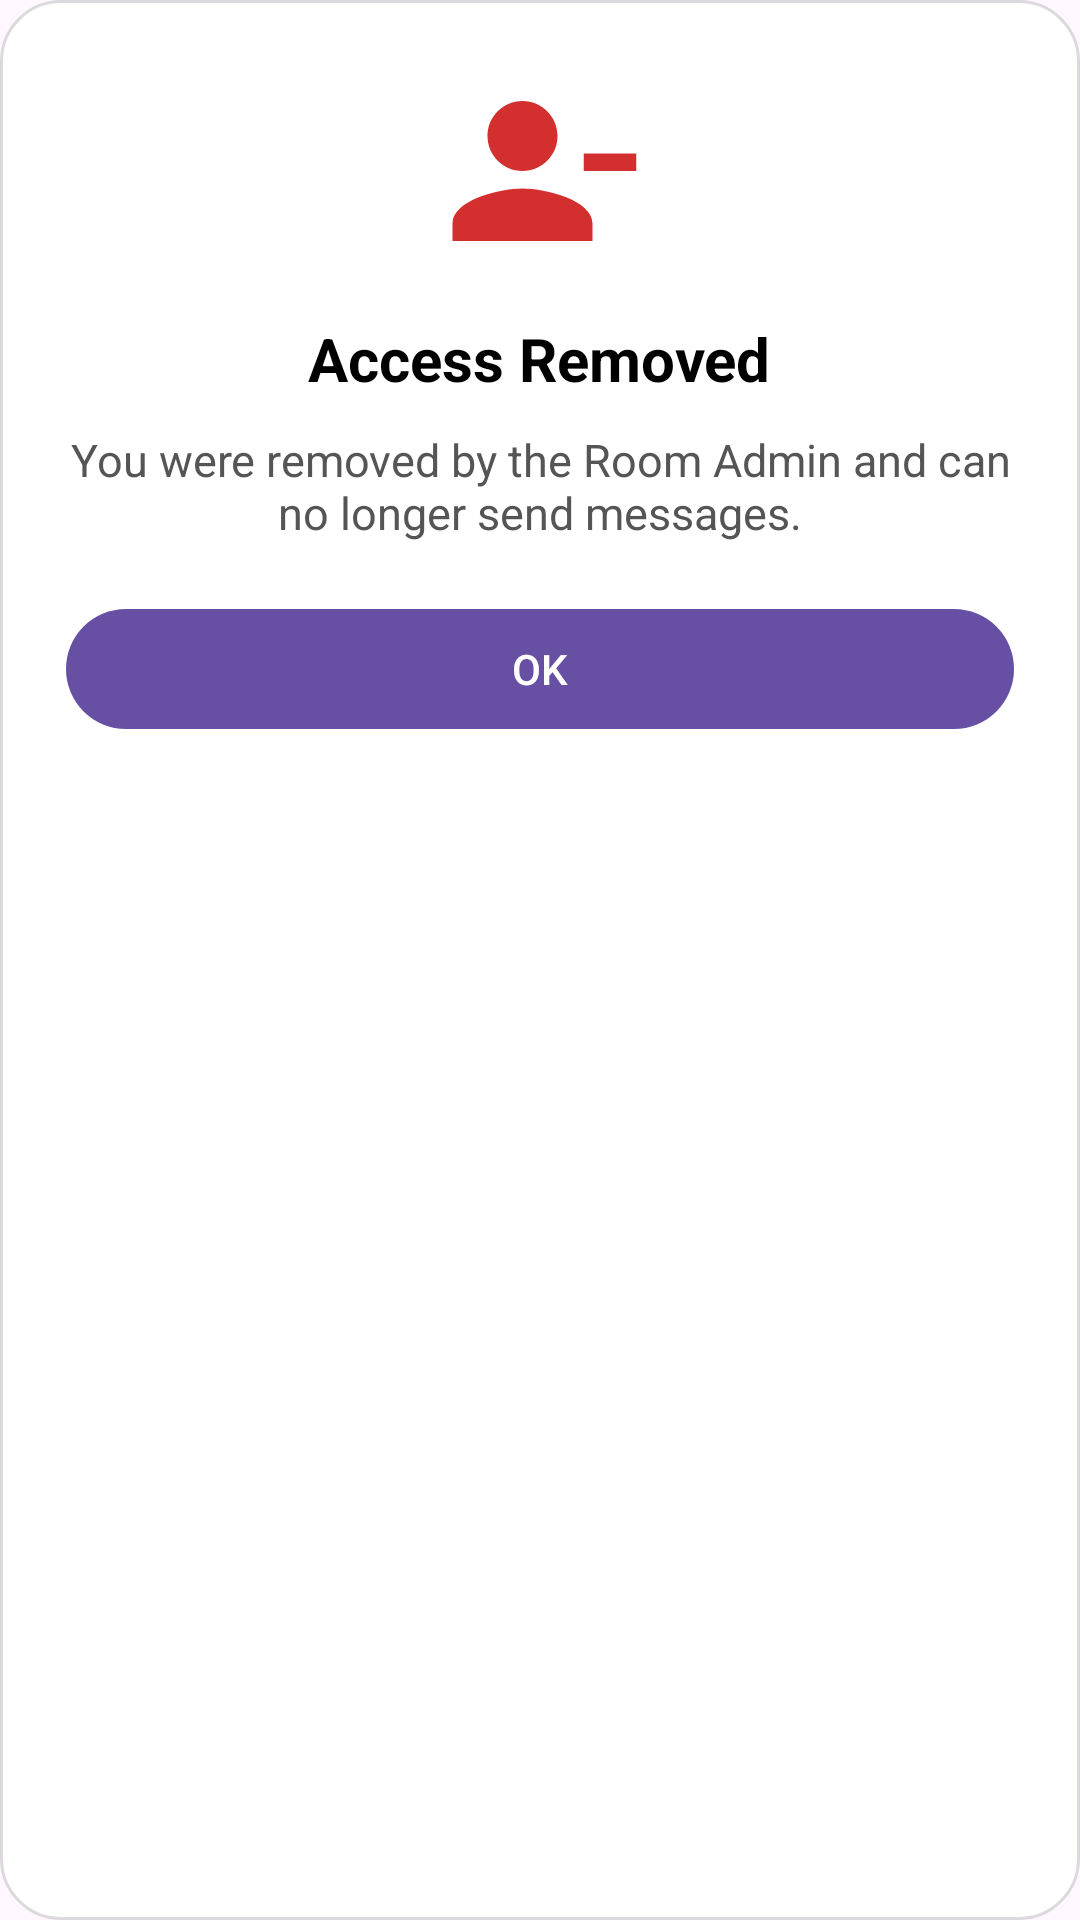

Named icons in this screenshot (1080×1920) and their centers, [x,y]:
person remove: [544,171]
